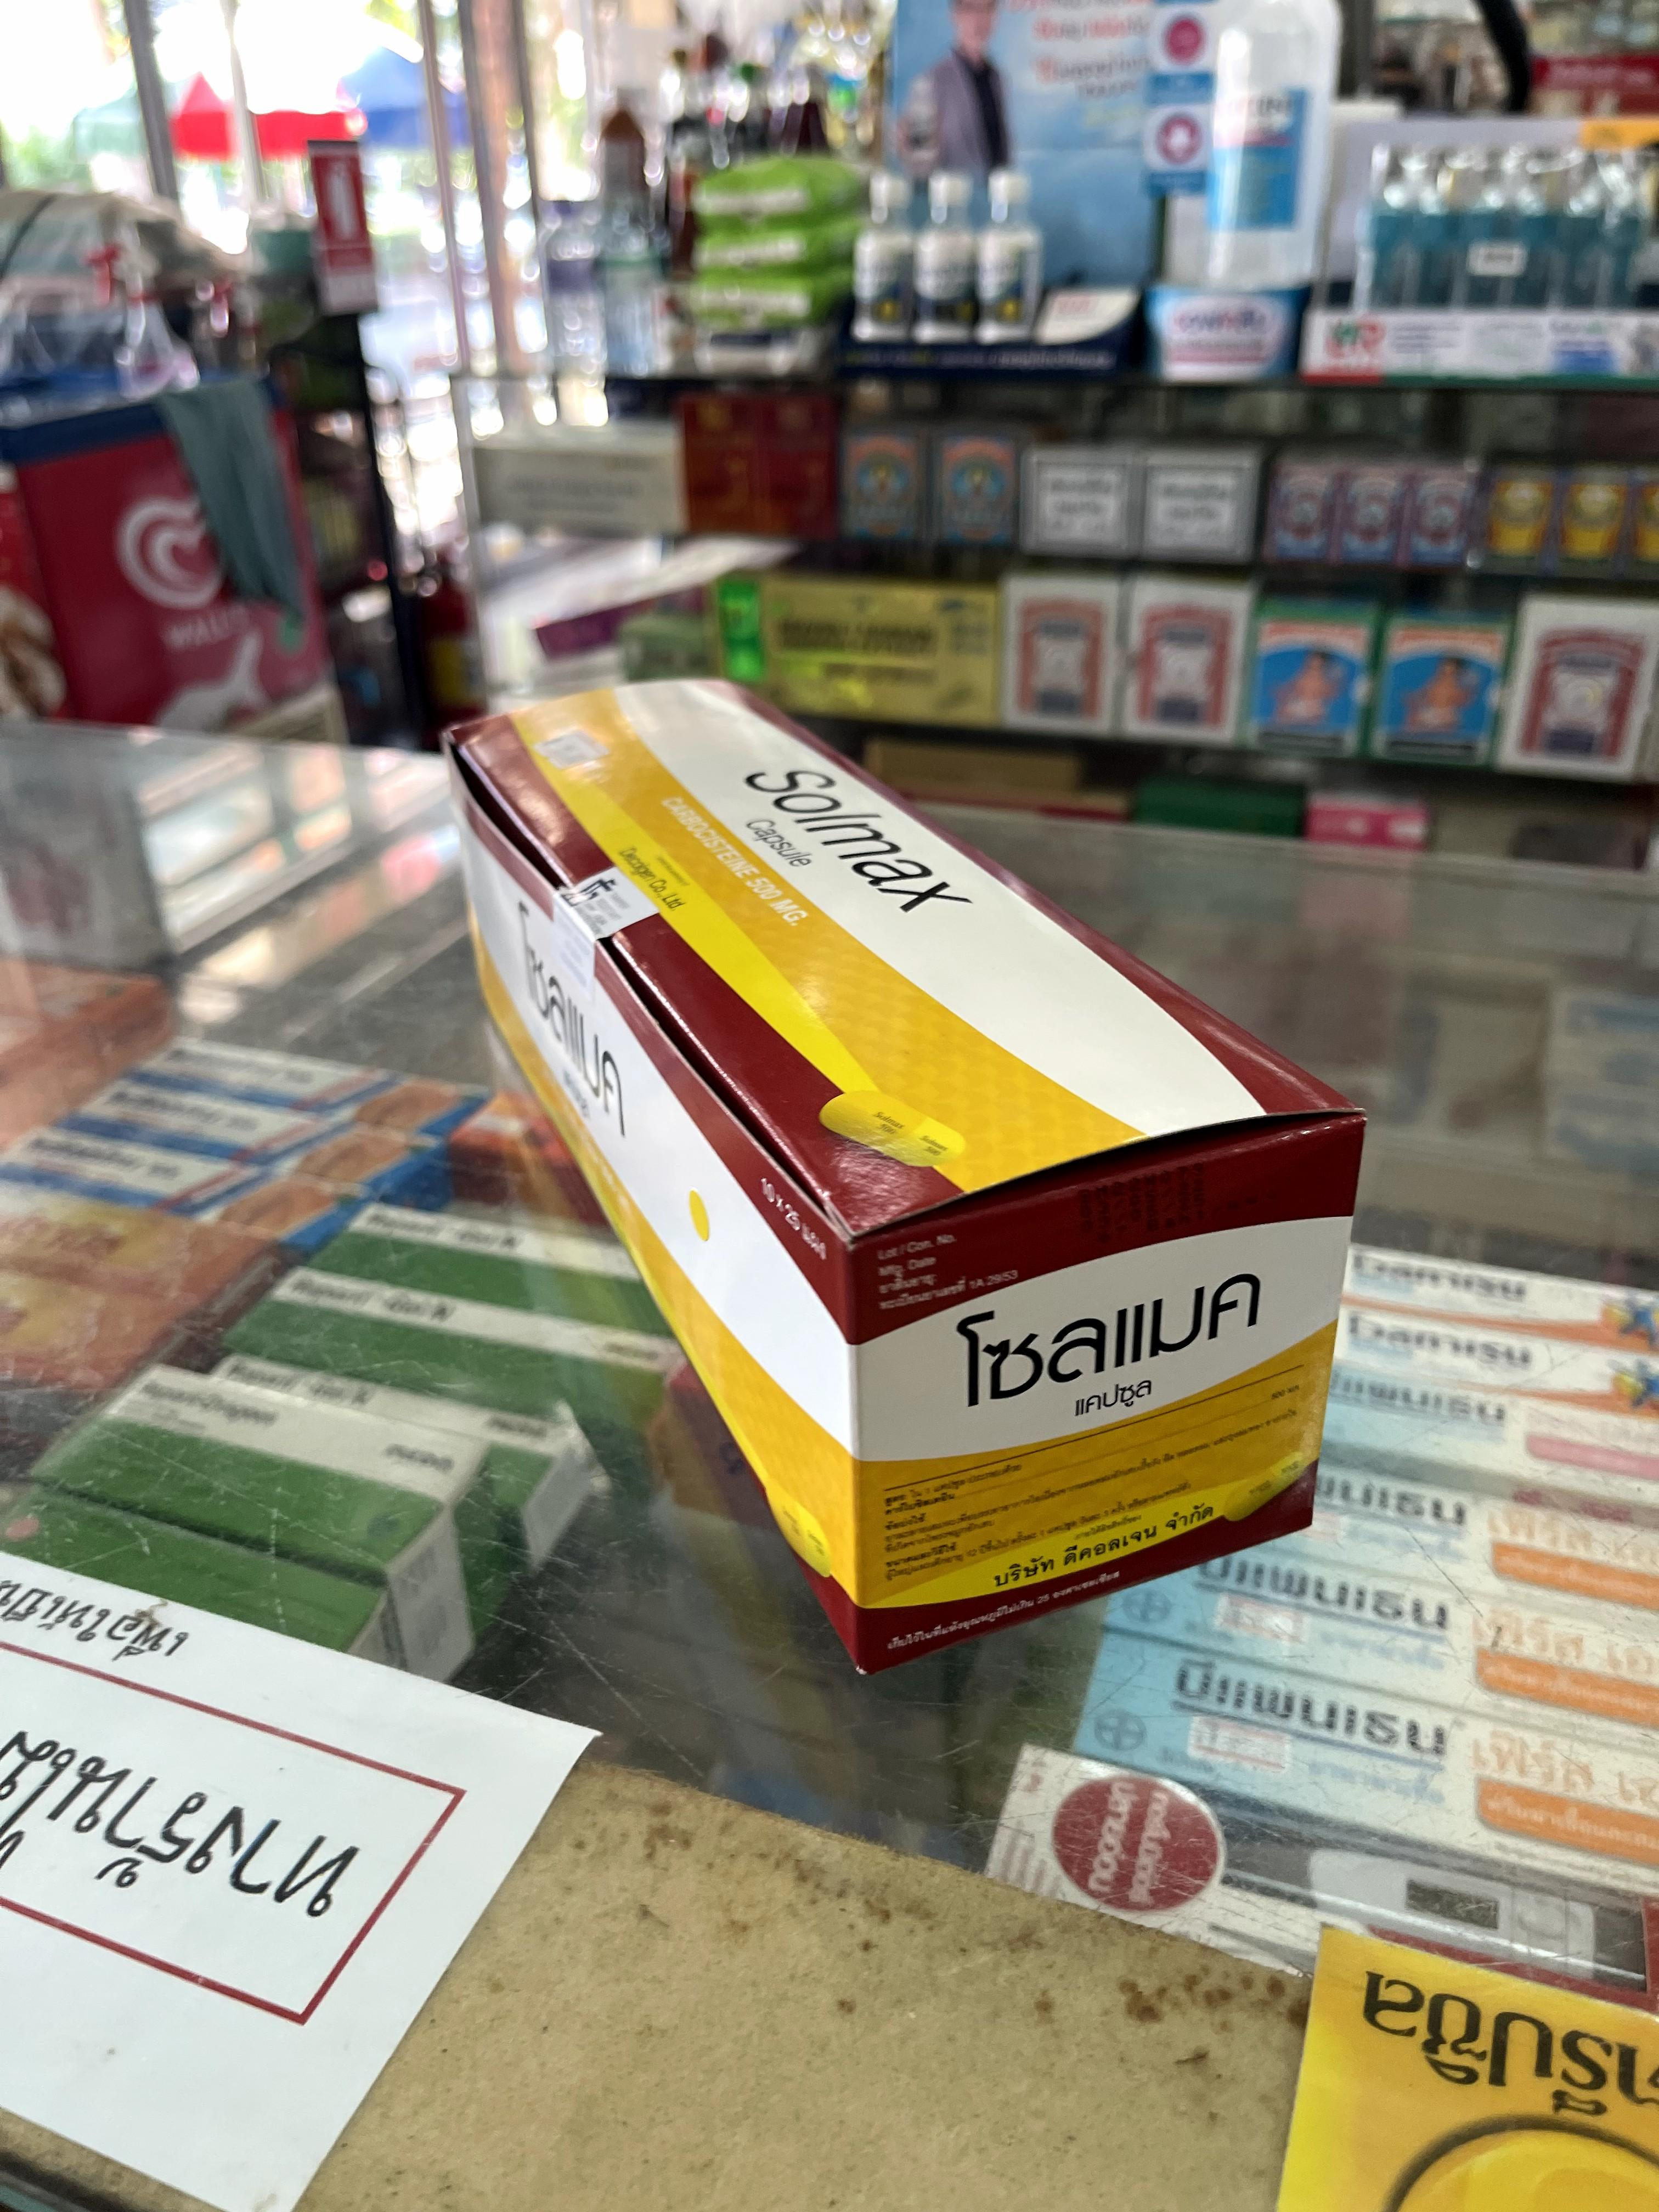Solmax-Capsule: (437, 672, 1375, 1679)
